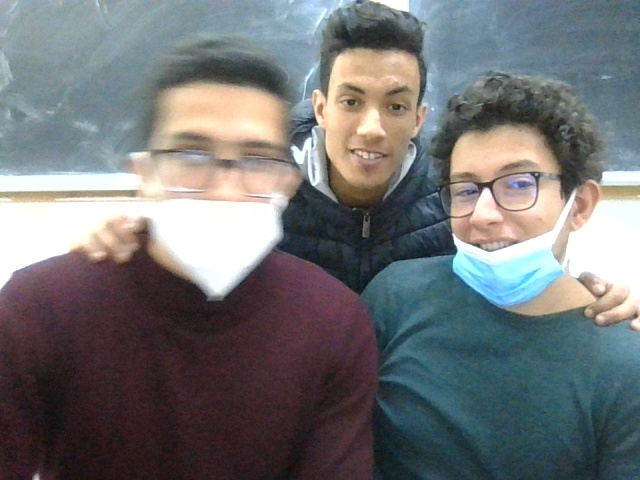mask_weared_incorrect: (435, 86, 608, 298)
without_mask: (306, 12, 430, 191)
